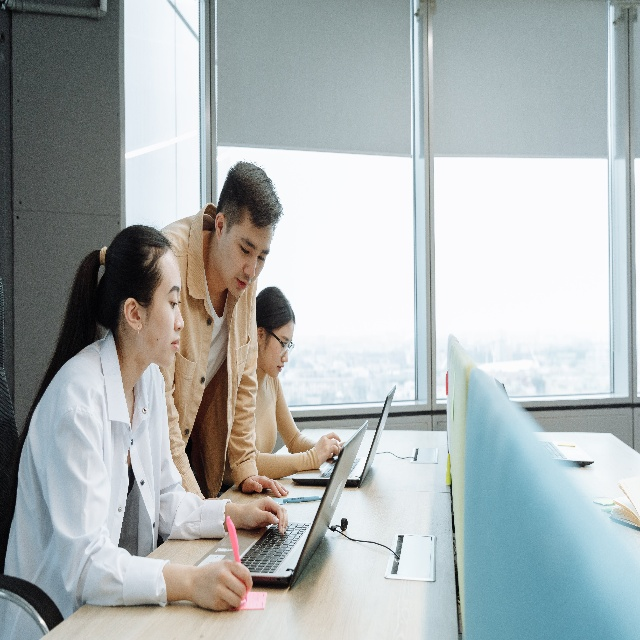Gafas: (264, 326, 294, 355)
Sin_guantes: (190, 559, 253, 614), (241, 495, 288, 536), (240, 474, 290, 498), (315, 432, 341, 464), (328, 440, 347, 460)
